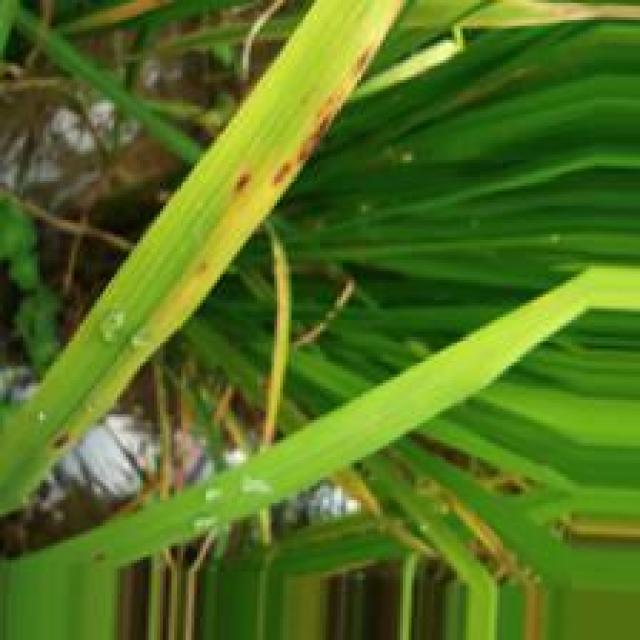Narrow_Brown_Leaf_Spot: (38, 37, 383, 464)
